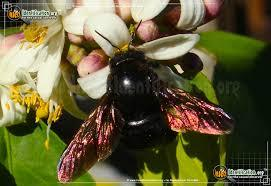Xylocopa: (48, 33, 238, 184)
